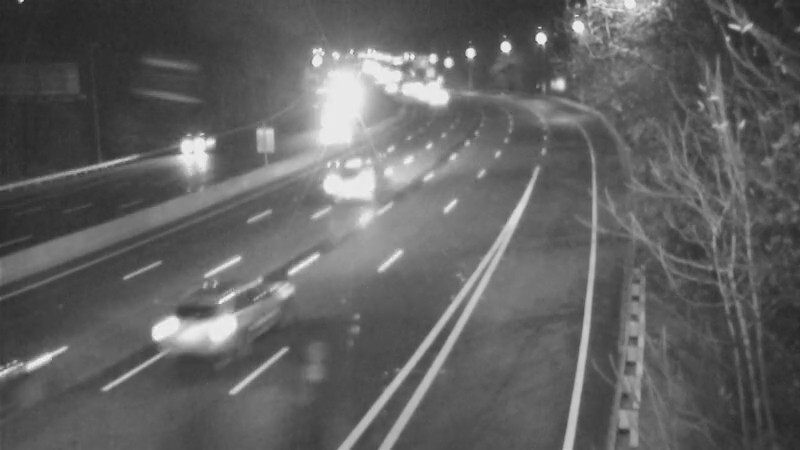vehicle: (151, 274, 261, 384), (302, 148, 382, 228), (156, 112, 236, 192), (408, 69, 458, 119), (314, 100, 364, 150)
